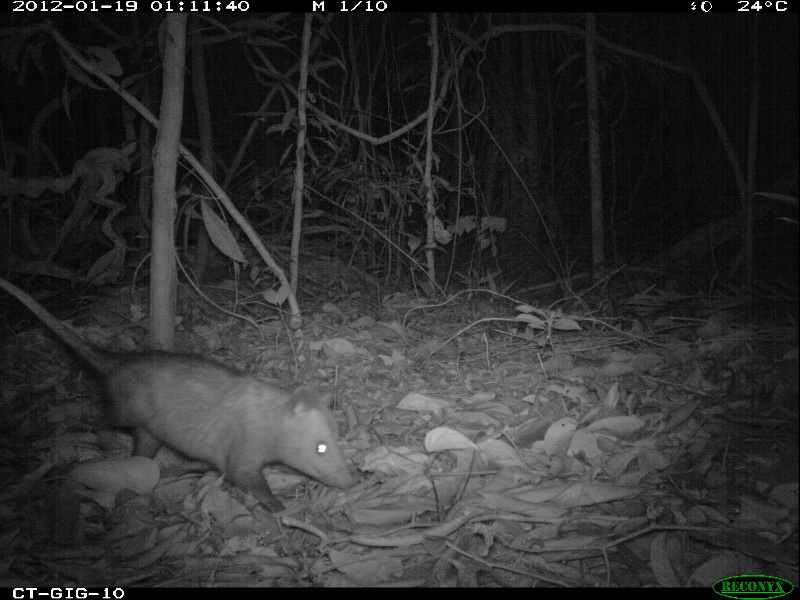opossum: (1, 263, 359, 519)
